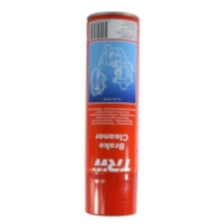aerosol_cans: (83, 9, 142, 220)
